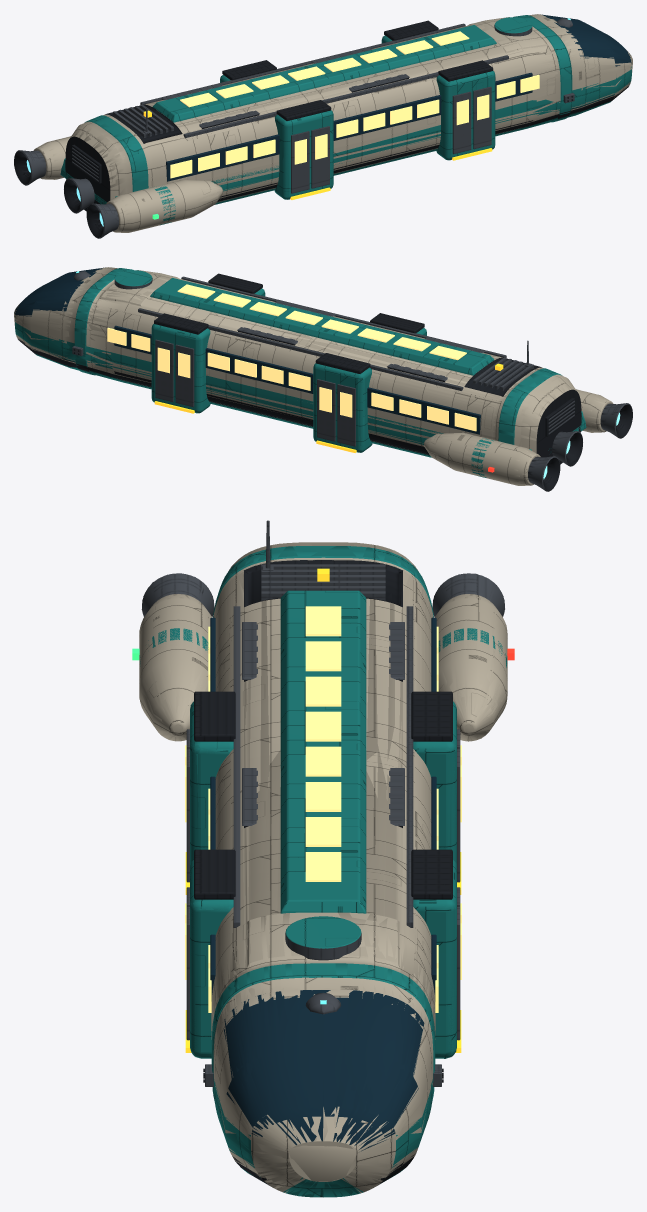
File: apron_shuttle.glb
The picture shows the model from 3 angles, top to bottom: view 1: azimuth 30°, elevation 25°; view 2: azimuth 150°, elevation 25°; view 3: azimuth 270°, elevation 25°; orthographic projection. The views are drawn at different scales.
Visible parts, largest first — view 1: LOD0_Hull, LOD0_Armor, LOD1_Hull, LOD2_Hull, LOD0_Mechanical, LOD0_Lights_Warm, LOD0_MechanicalDark, LOD0_CANOPY, LOD1_Armor, LOD1_Lights_Warm, LOD2_Armor, LOD0_Livery (+9 smaller); view 2: LOD0_Hull, LOD0_Armor, LOD1_Hull, LOD0_Mechanical, LOD2_Hull, LOD0_Lights_Warm, LOD0_MechanicalDark, LOD1_Armor, LOD1_Lights_Warm, LOD0_CANOPY, LOD0_Livery, LOD2_MechanicalDark (+9 smaller); view 3: LOD0_Armor, LOD0_Hull, LOD1_Hull, LOD2_Hull, LOD0_Mechanical, LOD0_CANOPY, LOD0_Lights_Warm, LOD1_CANOPY, LOD0_MechanicalDark, LOD1_Armor, LOD2_CANOPY, LOD1_Lights_Warm (+5 smaller).
Part boxes in pixels (x1,y1,x2,y2): LOD0_Hull: (34, 14, 632, 232); LOD0_Armor: (60, 15, 593, 204); LOD1_Hull: (35, 14, 632, 232); LOD2_Hull: (35, 14, 632, 232); LOD0_Mechanical: (16, 18, 574, 238); LOD0_Lights_Warm: (170, 31, 539, 178); LOD0_MechanicalDark: (14, 20, 628, 237); LOD0_CANOPY: (166, 19, 631, 181); LOD1_Armor: (85, 17, 610, 204); LOD1_Lights_Warm: (170, 31, 539, 177); LOD2_Armor: (86, 15, 609, 204); LOD0_Livery: (155, 69, 631, 225); LOD0_Hull: (14, 267, 613, 485); LOD0_Armor: (35, 268, 586, 455); LOD1_Hull: (14, 267, 611, 484); LOD0_Mechanical: (72, 271, 632, 491); LOD2_Hull: (14, 267, 612, 485); LOD0_Lights_Warm: (107, 284, 476, 431); LOD0_MechanicalDark: (18, 273, 632, 490); LOD1_Armor: (36, 270, 559, 457); LOD1_Lights_Warm: (107, 285, 476, 430); LOD0_CANOPY: (15, 268, 480, 434); LOD0_Livery: (15, 322, 493, 477); LOD2_MechanicalDark: (18, 285, 632, 490); LOD0_Armor: (190, 546, 456, 1197); LOD0_Hull: (139, 552, 507, 1192); LOD1_Hull: (139, 542, 507, 1187); LOD2_Hull: (139, 542, 507, 1193); LOD0_Mechanical: (142, 521, 504, 1086); LOD0_CANOPY: (210, 617, 436, 1136); LOD0_Lights_Warm: (185, 606, 461, 1012); LOD1_CANOPY: (210, 618, 435, 1151); LOD0_MechanicalDark: (194, 560, 452, 1186); LOD1_Armor: (190, 556, 456, 1197); LOD2_CANOPY: (210, 974, 436, 1149); LOD1_Lights_Warm: (185, 606, 461, 1012).
Size of what is drawn, in the model's own units: 18.87 by 3.56 by 5.52.
12 materials, 5 textured.
